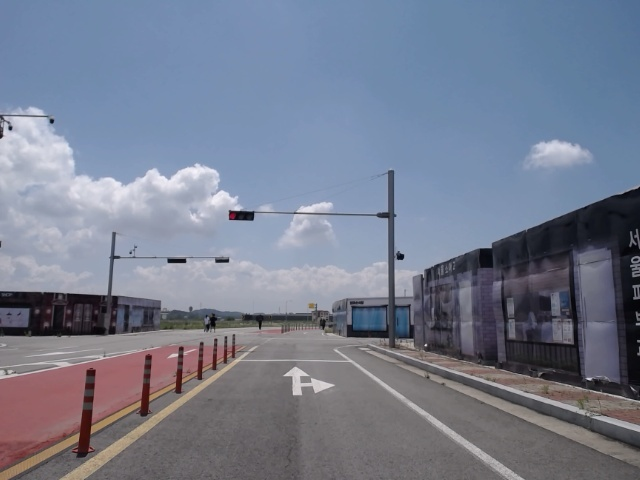red_3: (227, 209, 256, 223)
